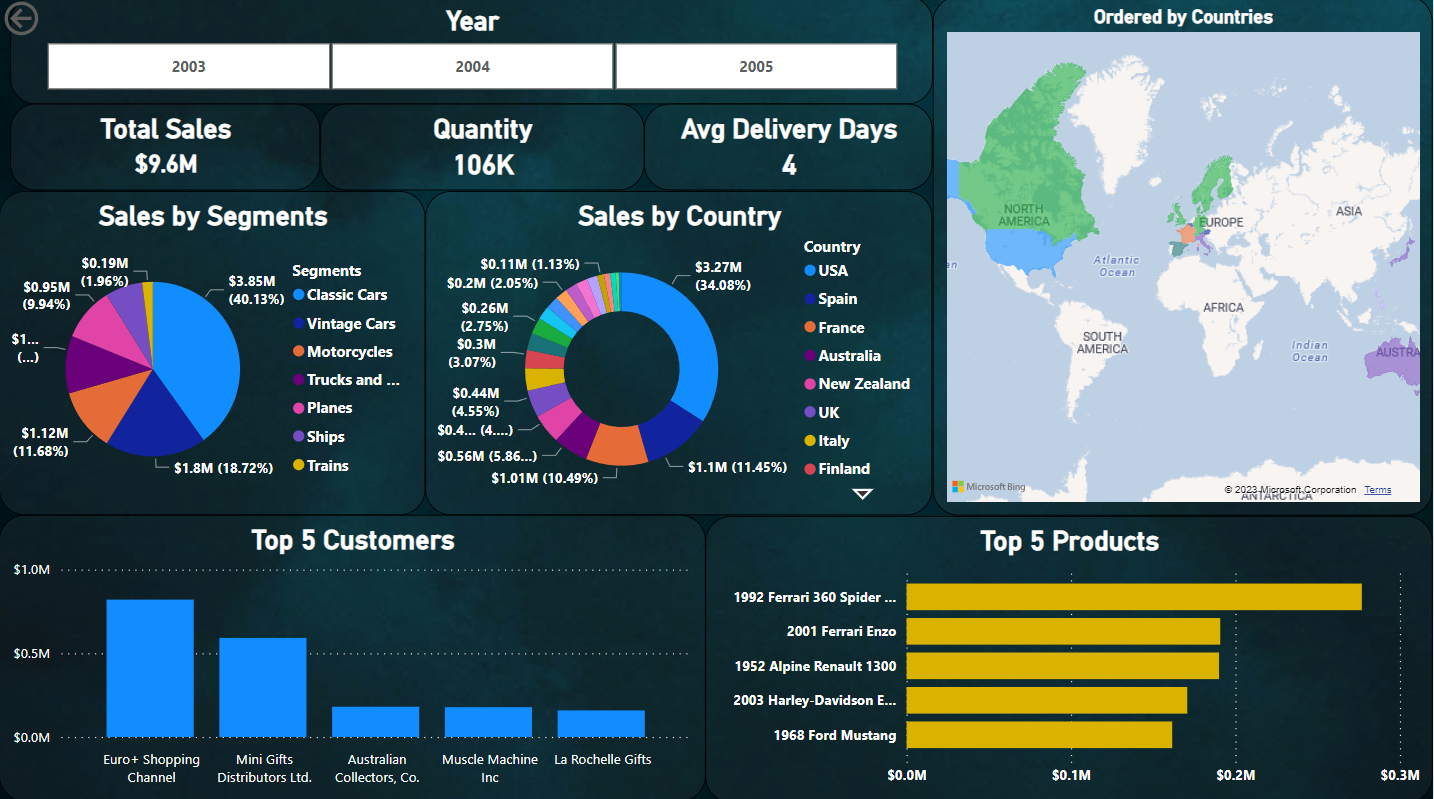

This screenshot's page, from the dashboard's own definition file:
{"tool":"powerbi","page":{"name":"Dashboard","canvas":[1280,720],"ordinal":0},"visuals":[{"type":"slicer","title":"Year","fields":{"Values":["orders.year"]},"box":[10.5,0,823.8,96.4],"z":0},{"type":"card","title":"Total Sales","fields":{"Values":["Sum(orderdetails.totalSales)"]},"box":[10.5,96.4,276.5,77.9],"z":1},{"type":"card","title":"Quantity","fields":{"Values":["Sum(orderdetails.quantityOrdered)"]},"box":[287,96.4,289.3,77.9],"z":2},{"type":"card","title":"Avg Delivery Days","fields":{"Values":["Avg(orders.deliveryDays)"]},"box":[576.3,96.4,258,77.9],"z":3},{"type":"pieChart","title":"Sales by Segments","fields":{"Category":["productlines.productLine"],"Y":["Sum(orderdetails.totalSales)"]},"box":[0,174.3,381.1,289.3],"z":4},{"type":"donutChart","title":"Sales by Country","fields":{"Y":["Sum(orderdetails.totalSales)"],"Category":["customers.country"]},"box":[381.1,174.3,453.2,289.3],"z":5},{"type":"filledMap","title":"Ordered by Countries","fields":{"Category":["customers.country"],"Series":["orderdetails.quantityOrdered"]},"box":[834.3,0,446.2,463.6],"z":6},{"type":"actionButton","box":[0,0,100,40],"z":7},{"type":"columnChart","title":"Top 5 Customers","fields":{"Category":["customers.customerName"],"Y":["Sum(orderdetails.totalSales)"]},"box":[0,463.6,630.9,255.6],"z":8},{"type":"clusteredBarChart","title":"Top 5 Products","fields":{"Category":["products.productName"],"Y":["Sum(orderdetails.totalSales)"]},"box":[630.9,464.8,649.5,255.6],"z":9}]}

Visuals, with their boxes in screenshot pixels (x1, y1, x2, y2), scaled from the page's 1280x720 canvas onto the 1434x799 screenshot:
"Year" slicer: bbox(12, 0, 935, 107)
"Total Sales" card: bbox(12, 107, 322, 193)
"Quantity" card: bbox(322, 107, 646, 193)
"Avg Delivery Days" card: bbox(646, 107, 935, 193)
"Sales by Segments" pieChart: bbox(0, 193, 427, 514)
"Sales by Country" donutChart: bbox(427, 193, 935, 514)
"Ordered by Countries" filledMap: bbox(935, 0, 1433, 514)
actionButton: bbox(0, 0, 112, 44)
"Top 5 Customers" columnChart: bbox(0, 514, 707, 798)
"Top 5 Products" clusteredBarChart: bbox(707, 516, 1433, 798)
